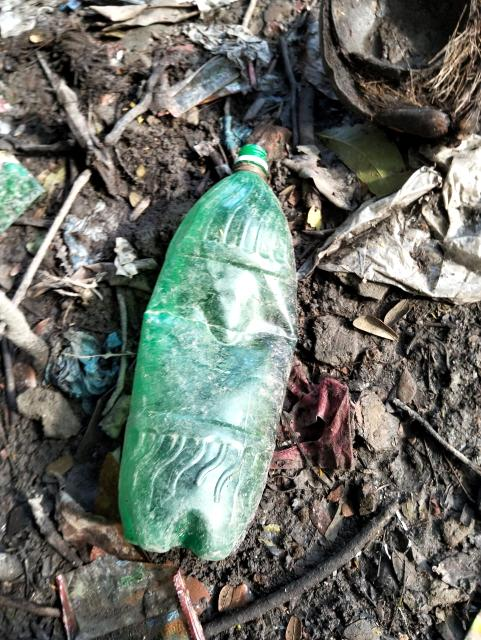bottle: (89, 168, 325, 565)
